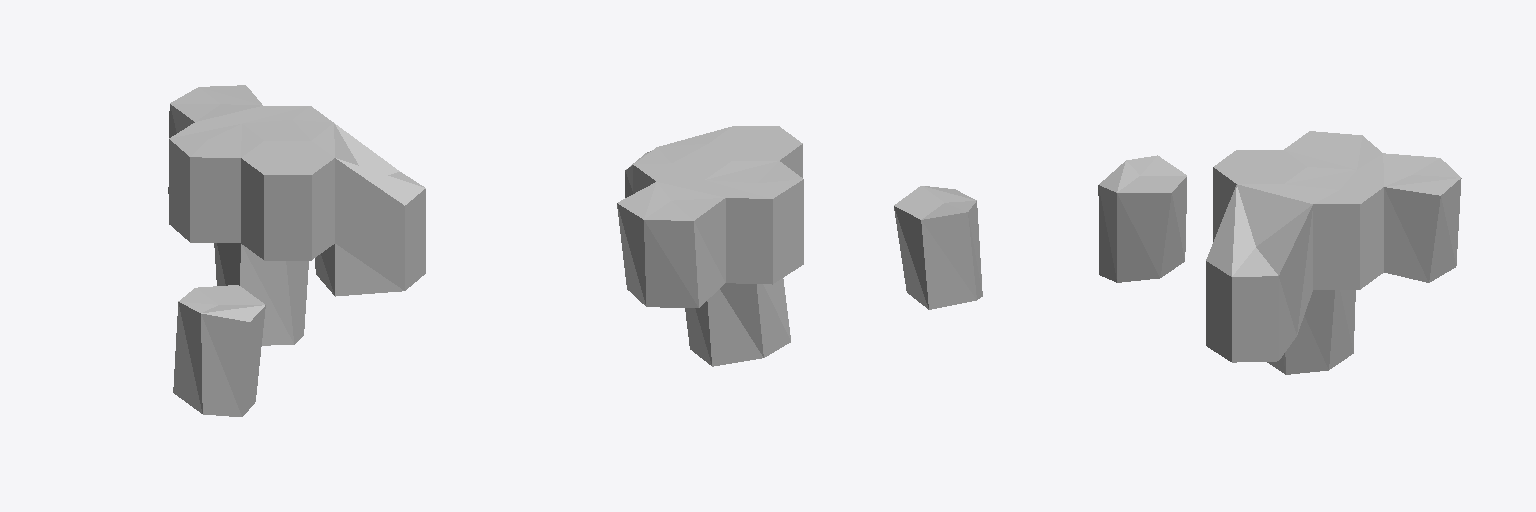
File: hex5.obj
3 renders of one model, left to right at view 1: azimuth 30°, elevation 25°; view 2: azimuth 150°, elevation 25°; view 3: azimuth 270°, elevation 25°, orthographic.
Visible parts, largest first — view 1: base1.001, base1, top-cell.001, base2, top-cell.002, top-cell, base3; view 2: top-cell, base2, top-cell.001, top-cell.002, base3, base1, base1.001; view 3: base1.001, top-cell.001, top-cell, base3, top-cell.002, base1, base2.
Part boxes in pixels (x1,y1,x2,y2): base1.001: (312, 123, 425, 296); base1: (241, 141, 334, 260); top-cell.001: (173, 285, 265, 416); base2: (169, 122, 263, 242); top-cell.002: (214, 243, 308, 345); top-cell: (168, 85, 262, 193); base3: (242, 106, 333, 140); top-cell: (617, 180, 725, 307); base2: (705, 161, 803, 284); top-cell.001: (894, 186, 982, 309); top-cell.002: (685, 278, 790, 366); base3: (633, 144, 731, 193); base1: (709, 126, 802, 177); base1.001: (625, 127, 730, 197); base1.001: (1206, 184, 1312, 362); top-cell.001: (1098, 155, 1186, 282); top-cell: (1358, 153, 1461, 282); base3: (1284, 167, 1383, 289); top-cell.002: (1267, 290, 1355, 374); base1: (1213, 150, 1306, 241); base2: (1284, 131, 1382, 169).
Bounding box in the file's own units: 7.16 × 4.7 × 7.71.